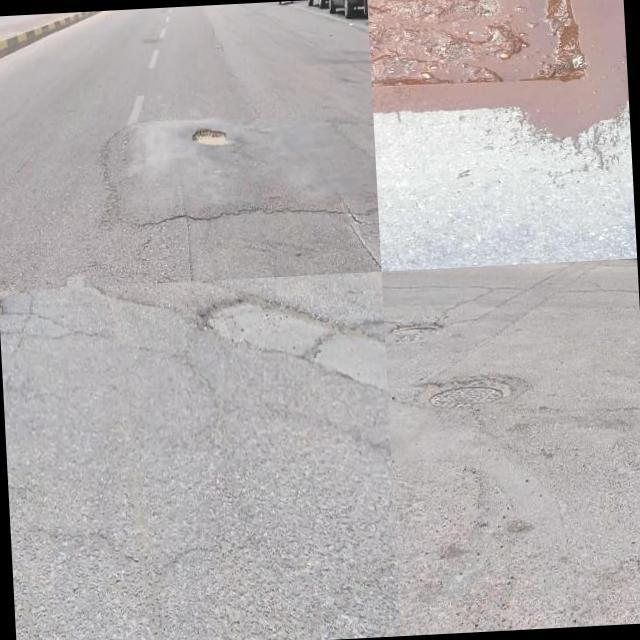Pothole: (367, 0, 586, 87), (195, 292, 342, 366), (191, 125, 228, 146)
